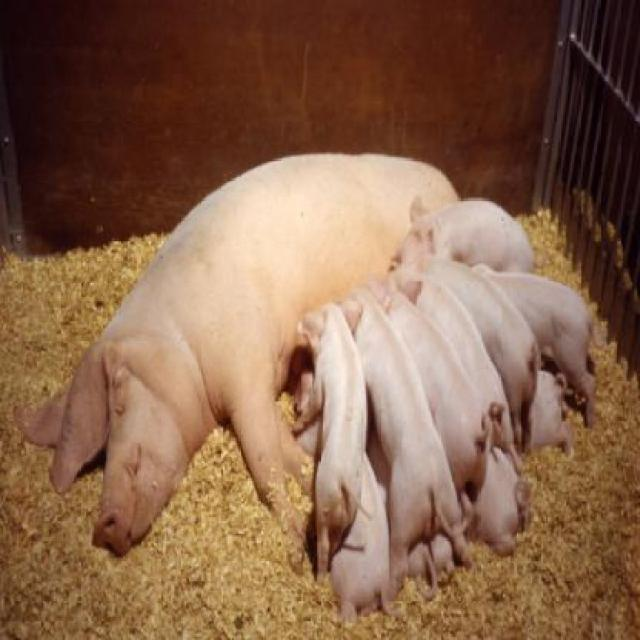pig: (11, 154, 607, 626)
